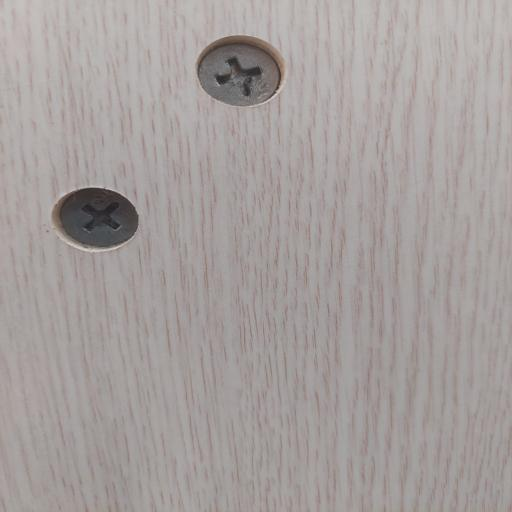Phillips: (200, 37, 284, 108), (53, 185, 141, 251)
